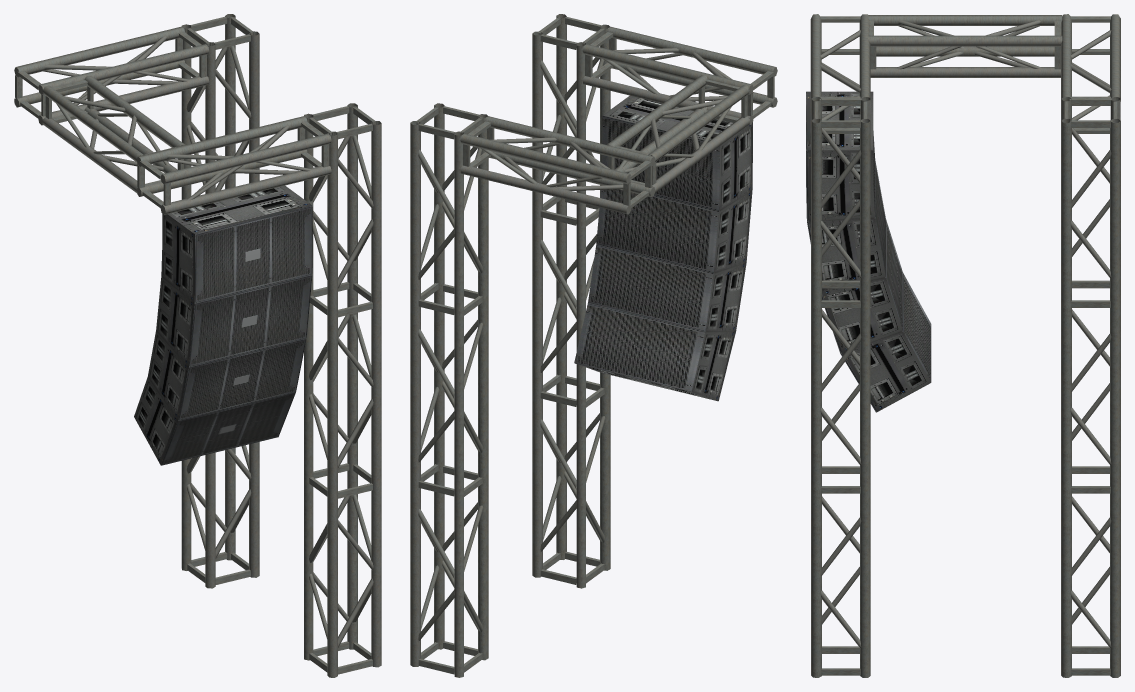
Rendered from Speaker_B_WithFrame_Right.fbx.
The picture shows the model from 3 angles, left to right: view 1: azimuth 30°, elevation 25°; view 2: azimuth 150°, elevation 25°; view 3: azimuth 270°, elevation 25°; orthographic projection. The views are drawn at different scales.
Visible parts, largest first — view 1: Speaker_Frame, Speaker; view 2: Speaker_Frame, Speaker; view 3: Speaker_Frame, Speaker.
Part boxes in pixels (x1=…): Speaker_Frame: x1=14, y1=14, x2=381, y2=677; Speaker: x1=134, y1=185, x2=312, y2=465; Speaker_Frame: x1=410, y1=14, x2=777, y2=677; Speaker: x1=574, y1=95, x2=752, y2=401; Speaker_Frame: x1=810, y1=14, x2=1120, y2=677; Speaker: x1=806, y1=91, x2=931, y2=412.
Bounding box in the file's own units: 3.85 × 9.13 × 4.69.
